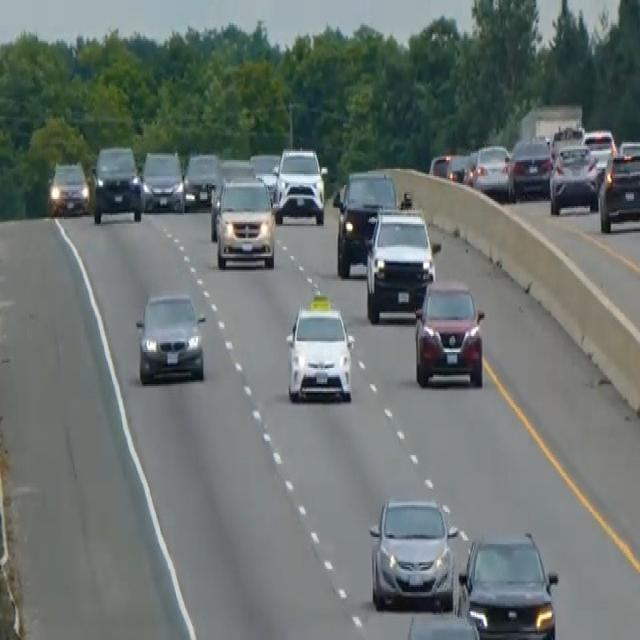car: (458, 528, 559, 638), (368, 494, 458, 610), (283, 286, 356, 406), (364, 204, 435, 324), (413, 278, 485, 388), (332, 167, 399, 277), (134, 288, 206, 384), (90, 142, 143, 224), (272, 144, 326, 224), (209, 156, 256, 238), (548, 141, 599, 215), (597, 147, 639, 233), (507, 133, 552, 201), (141, 148, 185, 214), (401, 608, 483, 638), (48, 158, 89, 217), (471, 142, 511, 198), (183, 149, 220, 208), (582, 126, 617, 182), (248, 151, 280, 203), (429, 149, 467, 183), (550, 122, 584, 154), (217, 155, 255, 183)
minivan: (211, 172, 277, 270)
